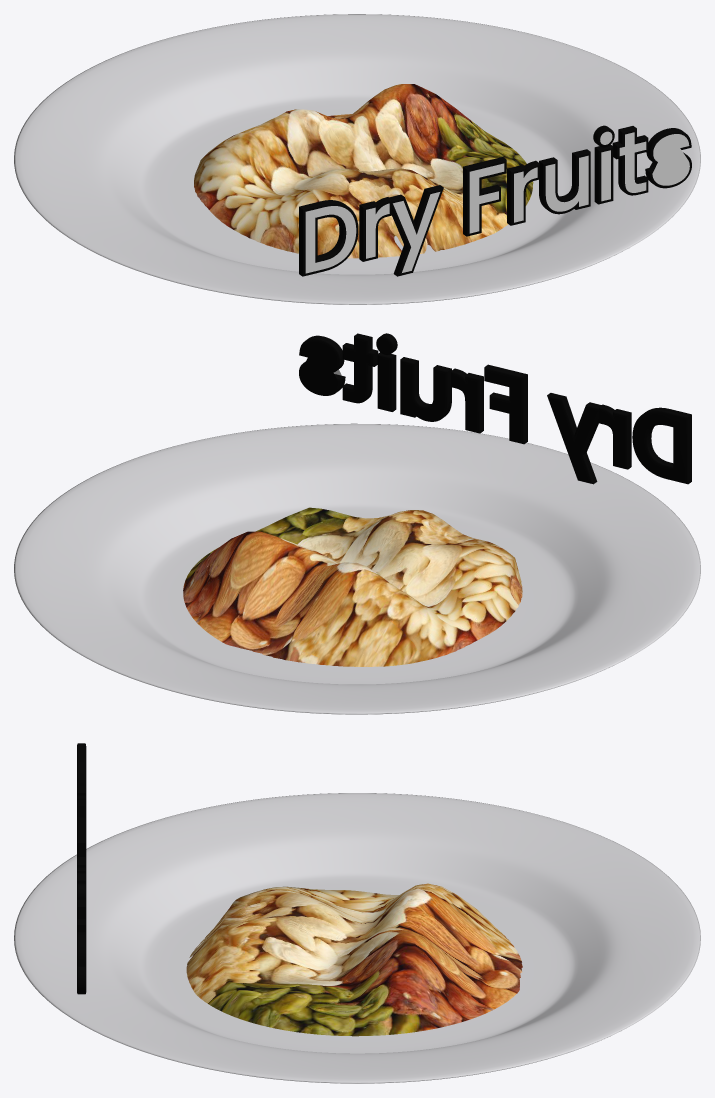
Rendered from Dry Fruits.fbx.
The picture shows the model from 3 angles, top to bottom: view 1: azimuth 30°, elevation 25°; view 2: azimuth 150°, elevation 25°; view 3: azimuth 270°, elevation 25°; orthographic projection.
Visible parts, largest first — view 1: Circle, pPlane1, typeMesh2; view 2: Circle, pPlane1, typeMesh2; view 3: Circle, pPlane1, typeMesh2.
Boxes of the visible parts, left/top/right/bottom form: Circle: left=14, top=14, right=700, bottom=304; pPlane1: left=194, top=84, right=533, bottom=258; typeMesh2: left=299, top=125, right=691, bottom=276; Circle: left=14, top=423, right=700, bottom=714; pPlane1: left=183, top=507, right=522, bottom=666; typeMesh2: left=299, top=333, right=691, bottom=484; Circle: left=14, top=793, right=700, bottom=1083; pPlane1: left=186, top=883, right=522, bottom=1036; typeMesh2: left=77, top=743, right=86, bottom=994.
Bounding box in the file's own units: 313 × 72.53 × 313.
Materials: 5 (1 with a texture image).
